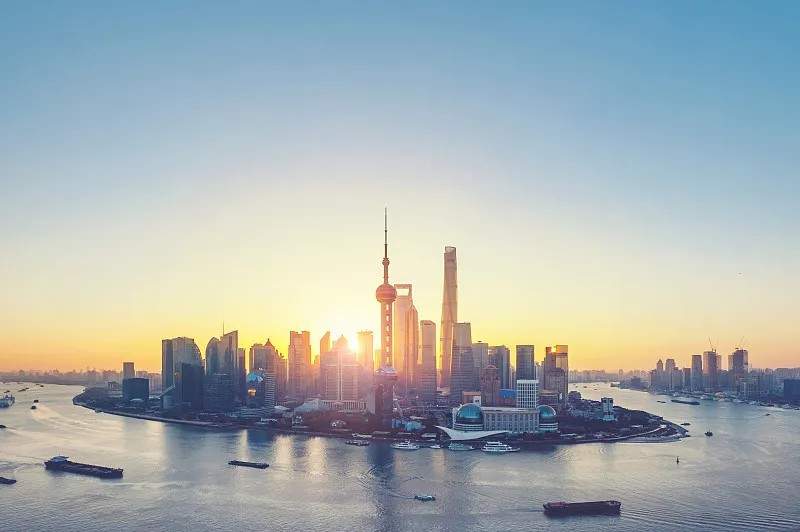Oriental: (375, 207, 397, 367)
